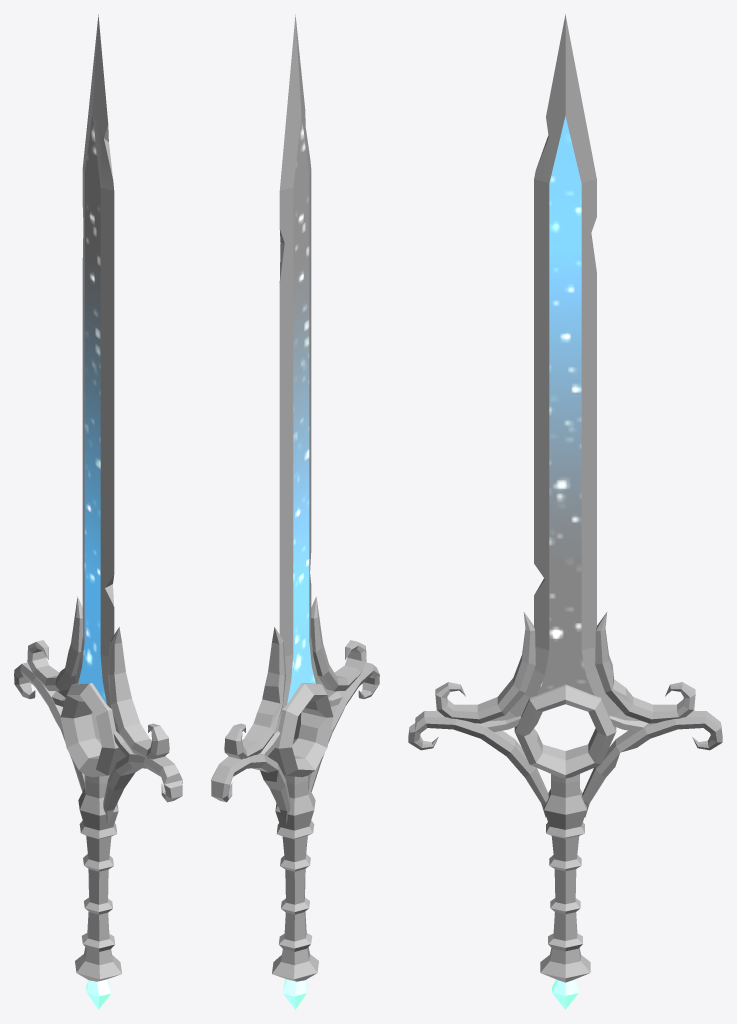
The model's file is SM_Wep_Sword_01.fbx.
3 renders of one model, left to right at view 1: azimuth 30°, elevation 25°; view 2: azimuth 150°, elevation 25°; view 3: azimuth 270°, elevation 25°, orthographic.
Visible parts, largest first — view 1: SM_Wep_Sword_01; view 2: SM_Wep_Sword_01; view 3: SM_Wep_Sword_01.
Part boxes in pixels (box(x1,y1,x2,y2)): SM_Wep_Sword_01: box(14, 14, 182, 1009); SM_Wep_Sword_01: box(211, 14, 379, 1009); SM_Wep_Sword_01: box(408, 14, 722, 1009).
Bounding box in the file's own units: 7.26 × 157 × 44.82.
